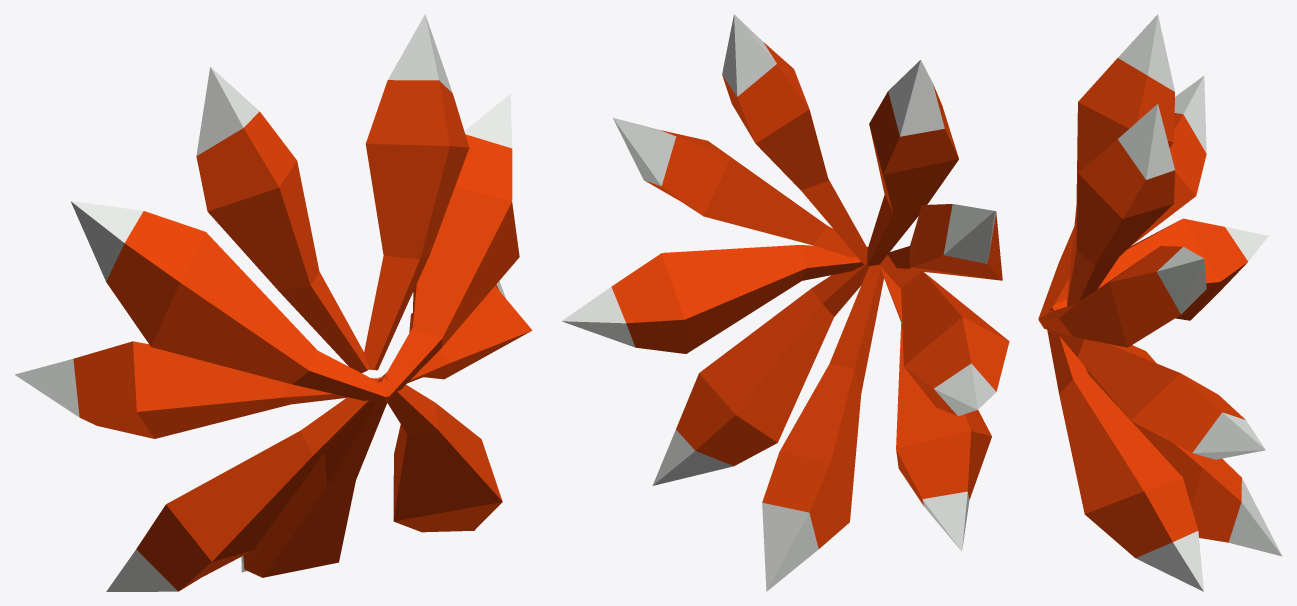
File: kamehimeTAILS_early_v02.fbx
3 renders of one model, left to right at view 1: azimuth 30°, elevation 25°; view 2: azimuth 150°, elevation 25°; view 3: azimuth 270°, elevation 25°, orthographic. The views are drawn at different scales.
Parts seen in each view (by area): view 1: TAIL.005, TAIL.003, TAIL.008, TAIL.006, TAIL.007, TAIL.002, TAIL, TAIL.004, TAIL.001; view 2: TAIL, TAIL.001, TAIL.004, TAIL.002, TAIL.003, TAIL.007, TAIL.008, TAIL.006, TAIL.005; view 3: TAIL, TAIL.003, TAIL.001, TAIL.002, TAIL.008, TAIL.004, TAIL.007, TAIL.005.
Boxes of the visible parts, left/top/right/bottom form: TAIL.005: left=70, top=201, right=386, bottom=404; TAIL.003: left=364, top=14, right=469, bottom=370; TAIL.008: left=196, top=67, right=368, bottom=373; TAIL.006: left=106, top=378, right=376, bottom=591; TAIL.007: left=15, top=341, right=379, bottom=438; TAIL.002: left=381, top=94, right=519, bottom=403; TAIL: left=378, top=377, right=502, bottom=532; TAIL.004: left=241, top=382, right=386, bottom=577; TAIL.001: left=379, top=281, right=532, bottom=383; TAIL: left=652, top=264, right=869, bottom=485; TAIL.001: left=562, top=245, right=863, bottom=353; TAIL.004: left=762, top=265, right=883, bottom=591; TAIL.002: left=613, top=118, right=867, bottom=257; TAIL.003: left=722, top=14, right=867, bottom=265; TAIL.007: left=879, top=255, right=1009, bottom=416; TAIL.008: left=867, top=60, right=958, bottom=266; TAIL.006: left=879, top=266, right=991, bottom=551; TAIL.005: left=888, top=204, right=1002, bottom=280; TAIL: left=1046, top=327, right=1203, bottom=591; TAIL.003: left=1067, top=104, right=1174, bottom=306; TAIL.001: left=1051, top=311, right=1265, bottom=459; TAIL.002: left=1038, top=246, right=1206, bottom=347; TAIL.008: left=1067, top=14, right=1174, bottom=304; TAIL.004: left=1085, top=367, right=1282, bottom=556; TAIL.007: left=1049, top=218, right=1268, bottom=320; TAIL.005: left=1038, top=76, right=1206, bottom=318.
Bounding box in the file's own units: 242 × 282 × 125.
